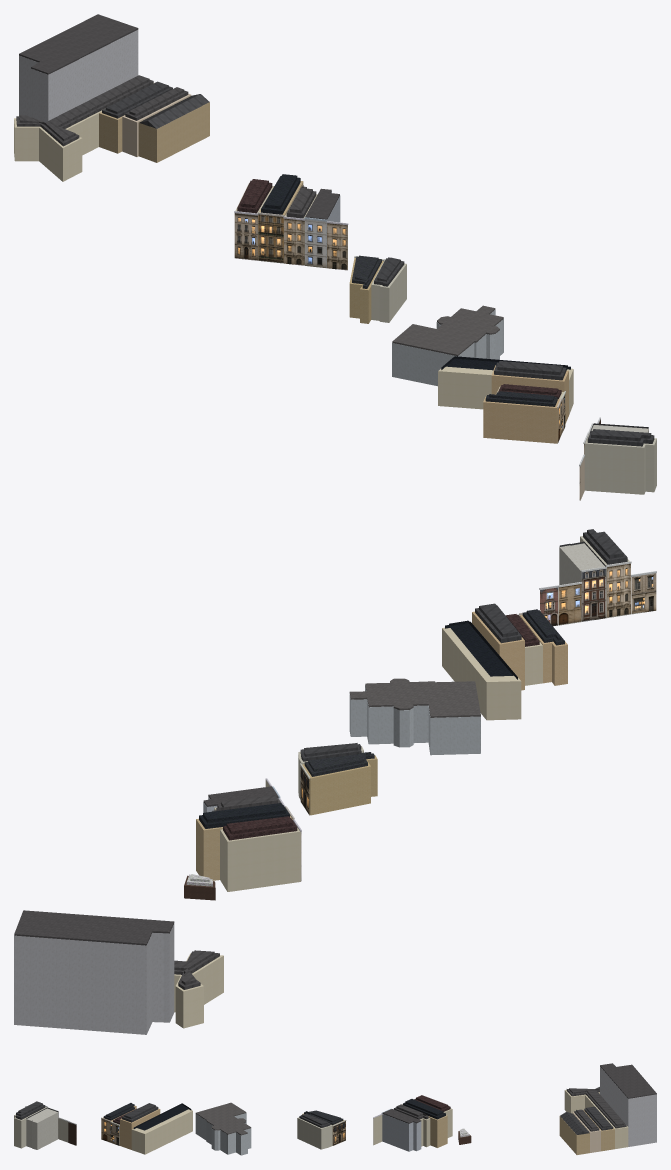
3 renders of one model, top to bottom at view 1: azimuth 30°, elevation 25°; view 2: azimuth 150°, elevation 25°; view 3: azimuth 270°, elevation 25°, orthographic. The views are drawn at different scales.
Parts seen in each view (by area): view 1: bldg_503538544, bldg_502727009, bldg_503534096, bldg_503538544_roof, bldg_501655085_roof, bldg_502718870, bldg_501655085, bldg_503538547, bldg_502718873, bldg_503534096_roof_b, bldg_501655080, bldg_501660308_facade0 (+11 smaller); view 2: bldg_503538544, bldg_501655085, bldg_501660307, bldg_503538544_roof, bldg_501655085_roof, bldg_502718873, bldg_501655079, bldg_503534096, bldg_502718873_roof_b, bldg_502727010_facade0, bldg_502727009_facade0, bldg_502727010 (+8 smaller); view 3: bldg_503538544, bldg_502718873, bldg_501655085, bldg_501660310, bldg_502727010, bldg_503538544_roof, bldg_501655085_roof, bldg_501655080, bldg_503534096, bldg_503538547, bldg_501660308, bldg_502718872 (+23 smaller).
Boxes of the visible parts, <box> form: bldg_503538544: <box>19,30,138,122</box>; bldg_502727009: <box>585,433,656,494</box>; bldg_503534096: <box>14,82,154,181</box>; bldg_503538544_roof: <box>19,14,138,74</box>; bldg_501655085_roof: <box>392,305,503,356</box>; bldg_502718870: <box>483,394,559,443</box>; bldg_501655085: <box>392,310,503,386</box>; bldg_503538547: <box>138,97,209,162</box>; bldg_502718873: <box>438,366,573,414</box>; bldg_503534096_roof_b: <box>19,75,149,141</box>; bldg_501655080: <box>371,260,406,322</box>; bldg_501660308_facade0: <box>257,212,284,263</box>; bldg_503538544: <box>14,923,174,1034</box>; bldg_501655085: <box>349,685,480,755</box>; bldg_501660307: <box>220,828,300,891</box>; bldg_503538544_roof: <box>14,910,174,945</box>; bldg_501655085_roof: <box>349,678,480,717</box>; bldg_502718873: <box>442,627,521,720</box>; bldg_501655079: <box>302,755,377,815</box>; bldg_503534096: <box>174,953,223,1028</box>; bldg_502718873_roof_b: <box>449,620,513,676</box>; bldg_502727010_facade0: <box>581,566,606,621</box>; bldg_502727009_facade0: <box>606,561,631,617</box>; bldg_502727010: <box>559,543,604,621</box>; bldg_503538544: <box>600,1066,656,1146</box>; bldg_502718873: <box>131,1109,192,1154</box>; bldg_501655085: <box>195,1113,251,1155</box>; bldg_501660310: <box>382,1114,421,1151</box>; bldg_502727010: <box>26,1108,58,1149</box>; bldg_503538544_roof: <box>600,1063,656,1098</box>; bldg_501655085_roof: <box>195,1102,251,1135</box>; bldg_501655080: <box>297,1117,332,1149</box>; bldg_503534096: <box>564,1090,628,1148</box>; bldg_503538547: <box>559,1116,589,1154</box>; bldg_501660308: <box>428,1115,447,1147</box>; bldg_502718872: <box>120,1108,160,1149</box>.
Bounding box in the file's own units: 49.6 × 22.61 × 269.
45 materials, 25 textured.
